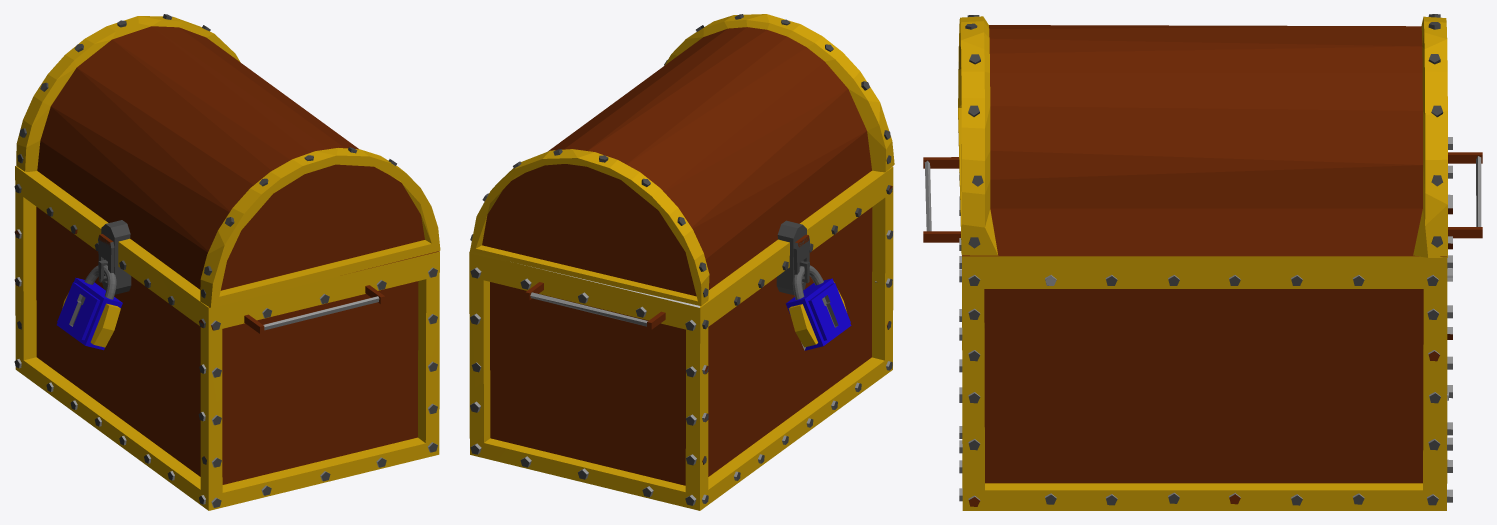
The model's file is BlueChestAndLock.fbx.
3 renders of one model, left to right at view 1: azimuth 30°, elevation 25°; view 2: azimuth 150°, elevation 25°; view 3: azimuth 270°, elevation 25°, orthographic. The views are drawn at different scales.
Parts seen in each view (by area): view 1: Cube.001, Cube; view 2: Cube.001, Cube; view 3: Cube.001.
Boxes of the visible parts, box(x1,y1,x2,y2) form: Cube.001: box(14, 14, 440, 510); Cube: box(56, 265, 122, 350); Cube.001: box(469, 14, 894, 510); Cube: box(785, 265, 851, 350); Cube.001: box(923, 14, 1482, 510).
Bounding box in the file's own units: 239 × 270 × 334.
